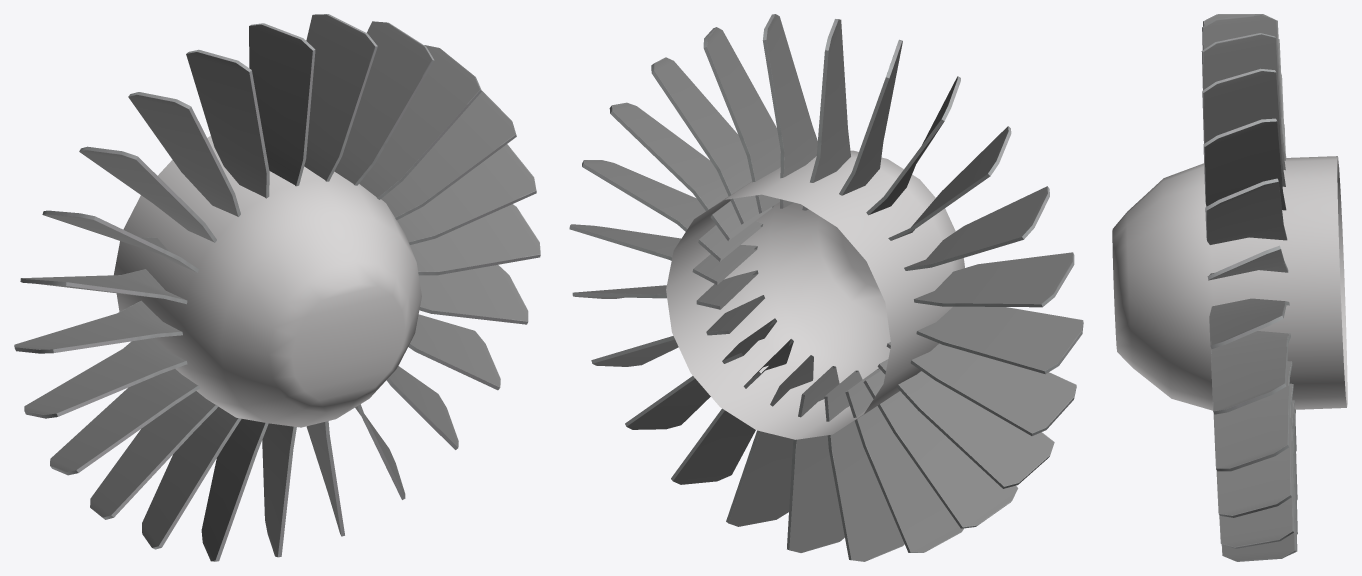
Rendered from propeller.fbx.
The picture shows the model from 3 angles, left to right: view 1: azimuth 30°, elevation 25°; view 2: azimuth 150°, elevation 25°; view 3: azimuth 270°, elevation 25°; orthographic projection. The views are drawn at different scales.
Parts seen in each view (by area): view 1: polySurface48; view 2: polySurface48; view 3: polySurface48.
Part boxes in pixels (<box>): polySurface48: <box>14,14,540,561</box>; polySurface48: <box>569,14,1083,561</box>; polySurface48: <box>1112,14,1347,561</box>.
Size of the model in its own units: 6.89 by 6.91 by 2.95.
